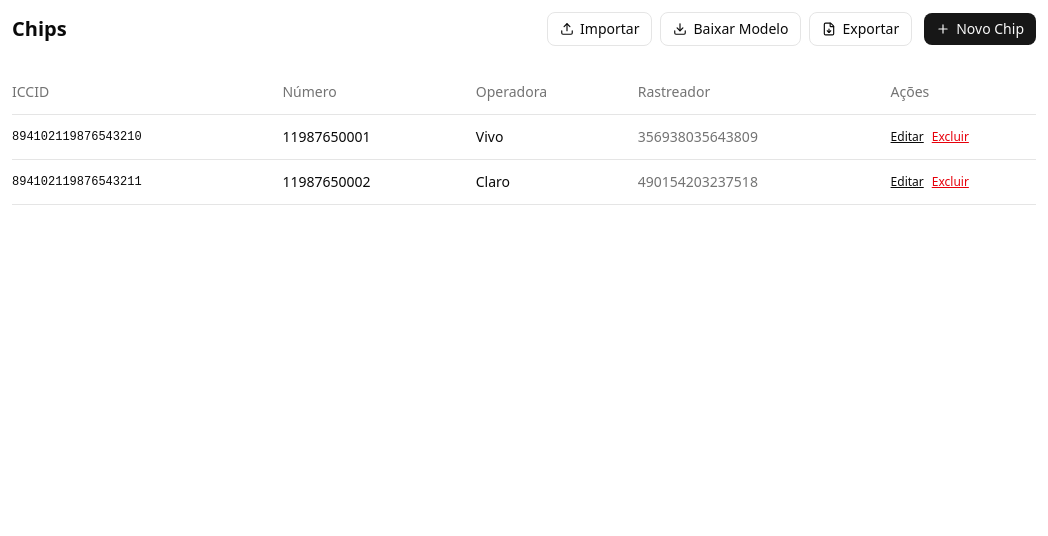
ChipsPage › botão "+ Novo Chip" abre o formulário
This screenshot has width=1048, height=536.
Step 1. Click the button "Novo Chip" → (980, 29), box [924,13,1036,45]
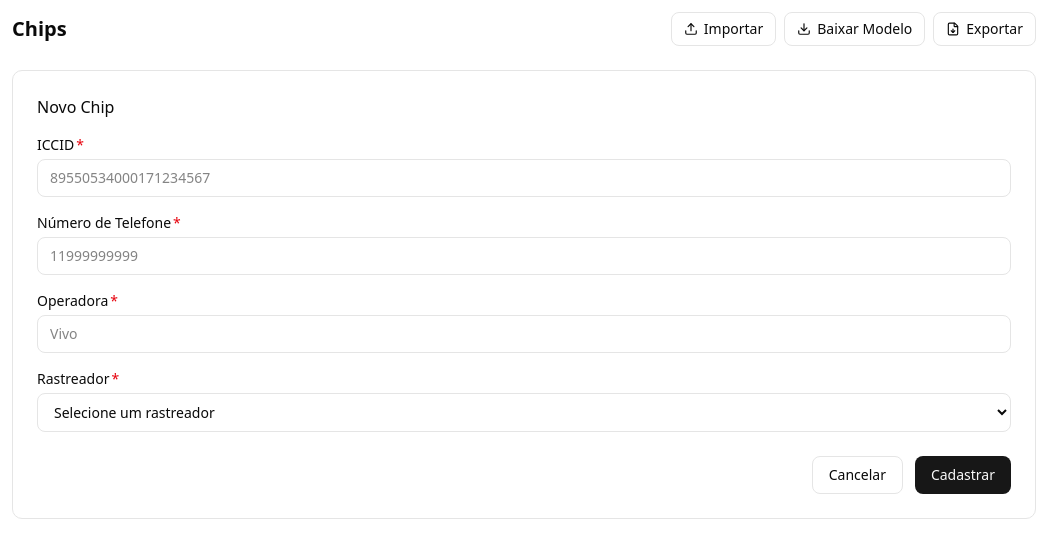
Check: the button "Cadastrar" is shown, box [915,456,1011,494]
